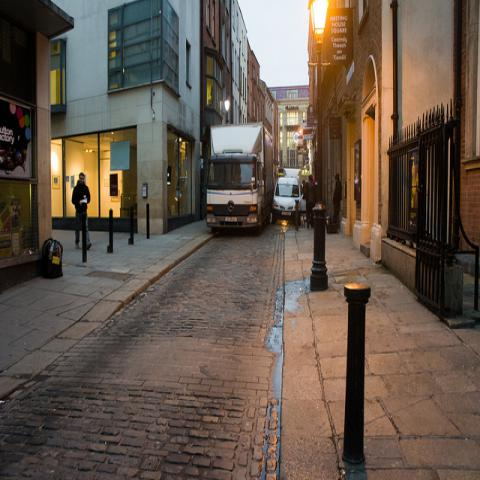truck: (206, 120, 274, 238), (273, 177, 301, 223)
